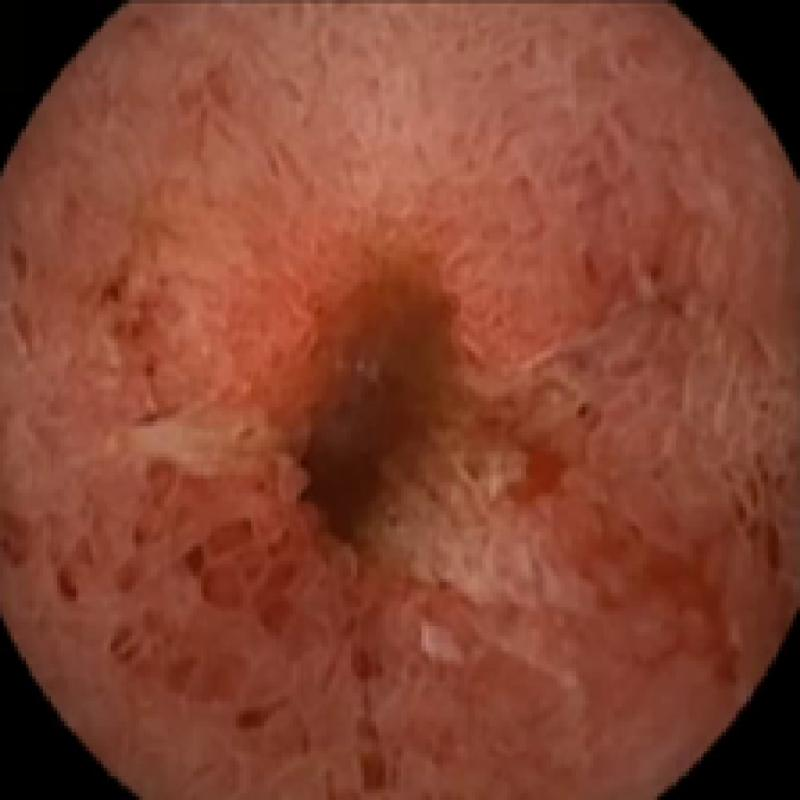bleeding: (96, 268, 722, 782)
